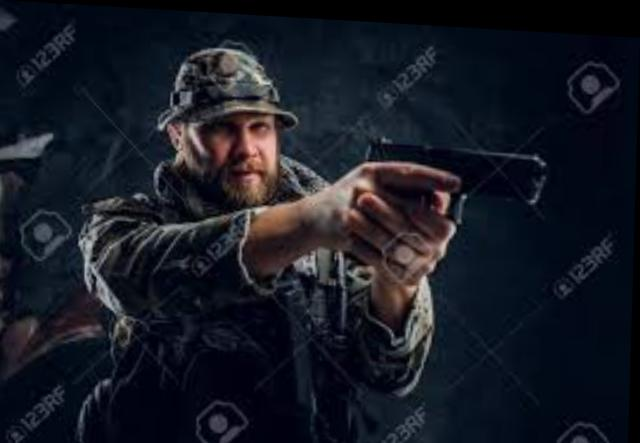other: (78, 41, 437, 442)
